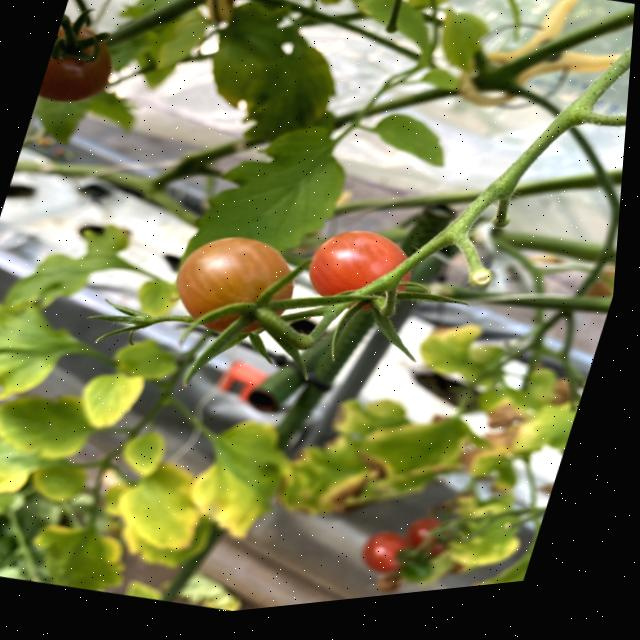ripe2: (163, 228, 310, 343), (300, 223, 423, 308)
